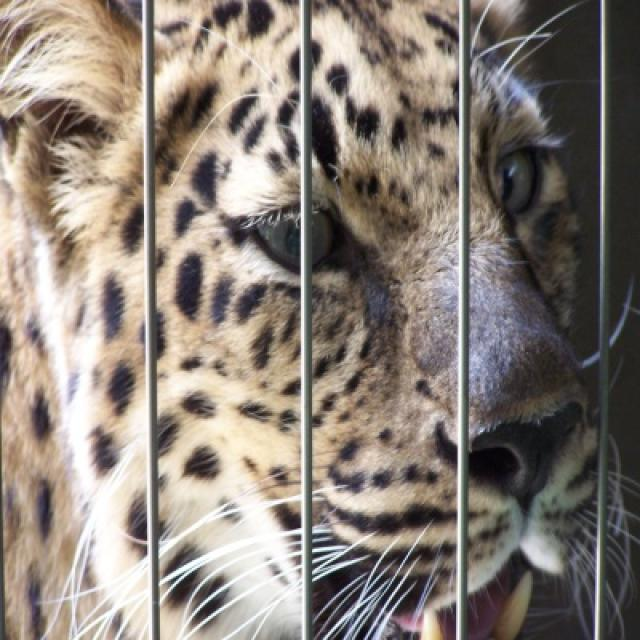Jaguar: (0, 0, 623, 638)
